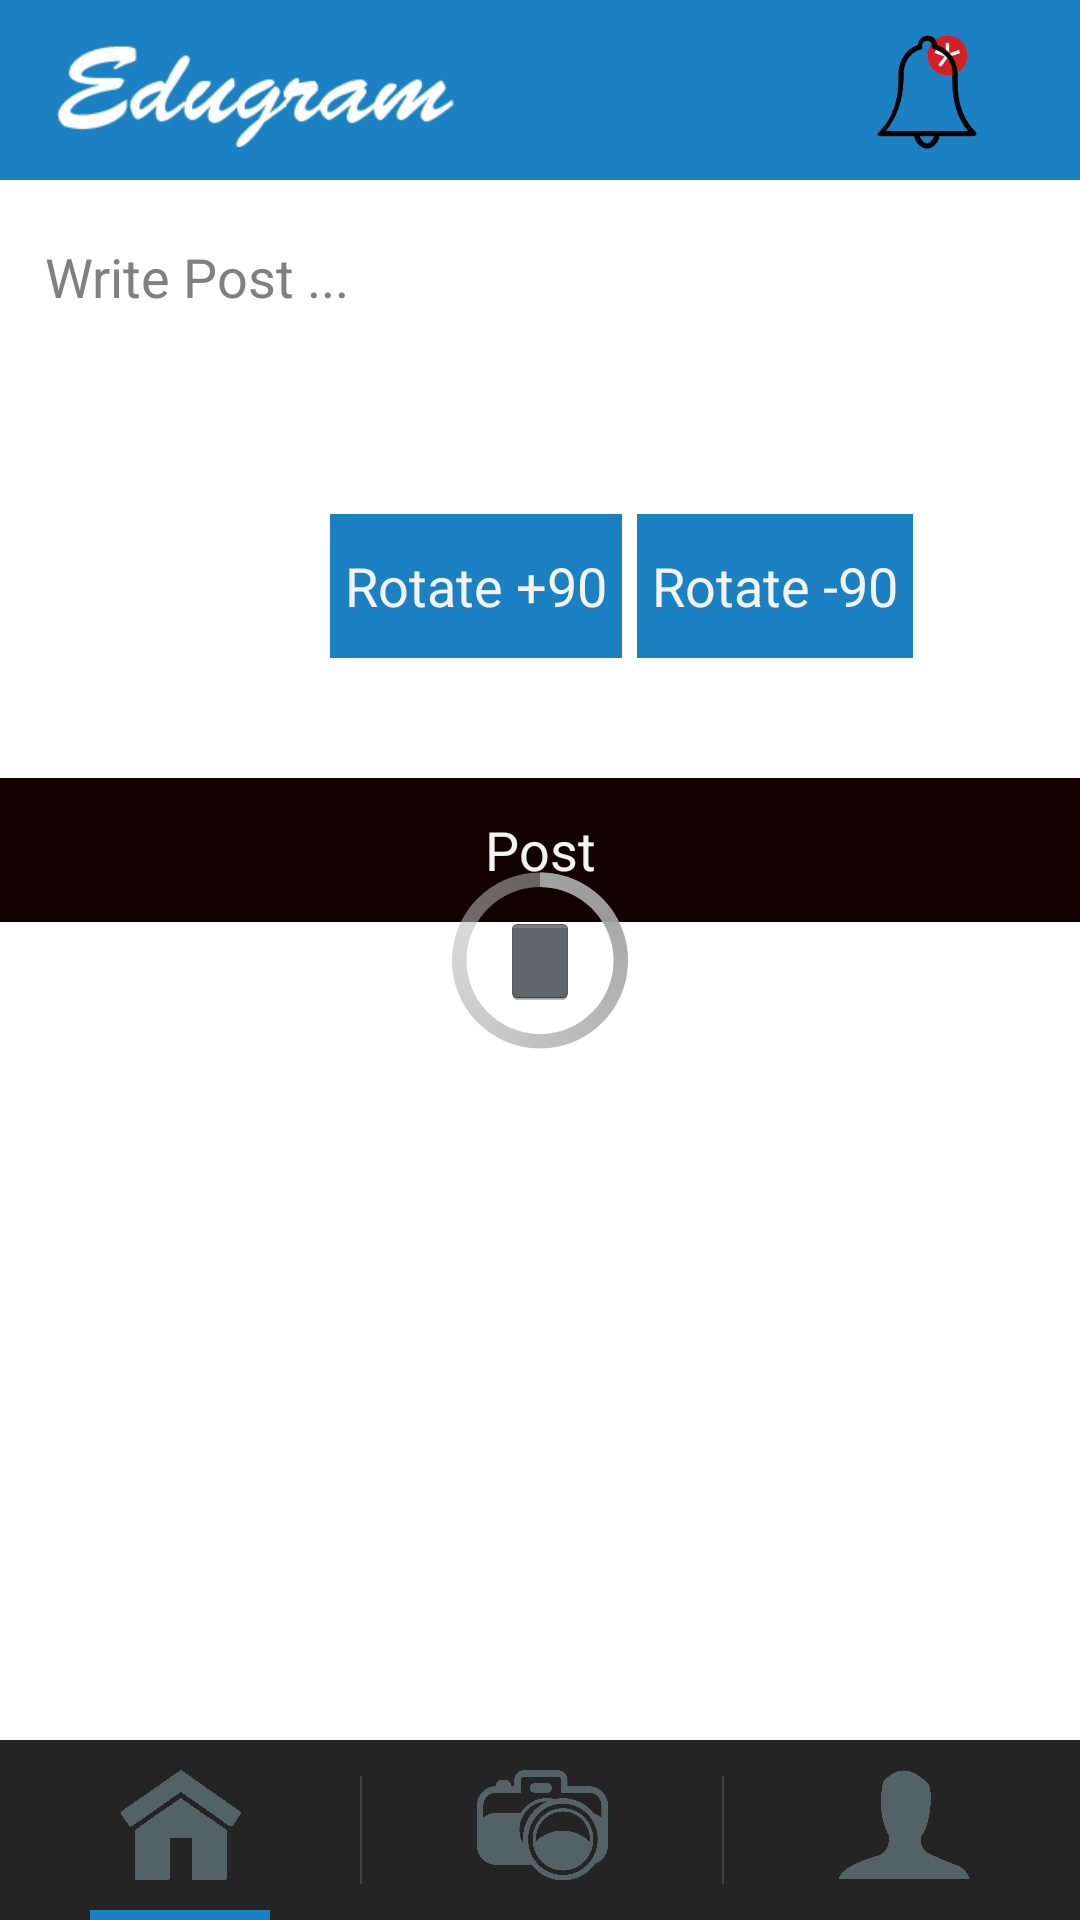

Locate icon controls on the screen. Image size 1080w x 1920h, boxes as Rect(x1, y1, x2, y2).
camera: Rect(477, 1770, 608, 1880)
home: Rect(0, 1740, 360, 1920)
Profile: Rect(839, 1770, 970, 1879)
